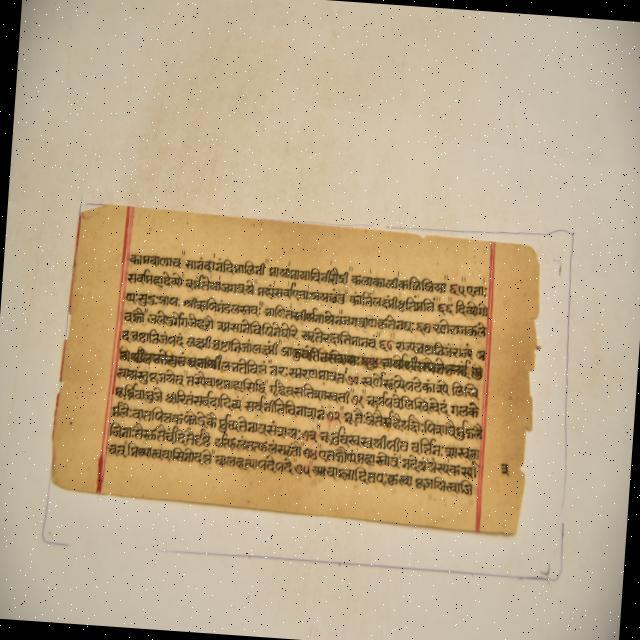text_paragraph: (49, 206, 534, 535)
